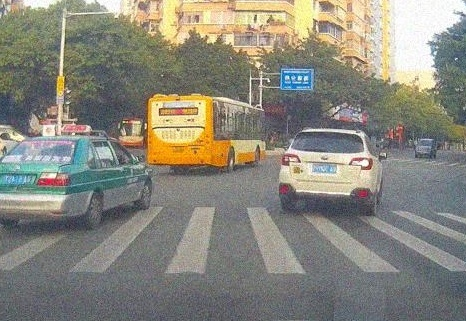L_light: (280, 153, 302, 166), (146, 135, 152, 145)
R_light: (349, 157, 373, 170), (205, 133, 212, 144)
T_light: (176, 97, 184, 101), (326, 132, 335, 135)
day-no: (279, 127, 374, 216), (146, 93, 213, 174)
